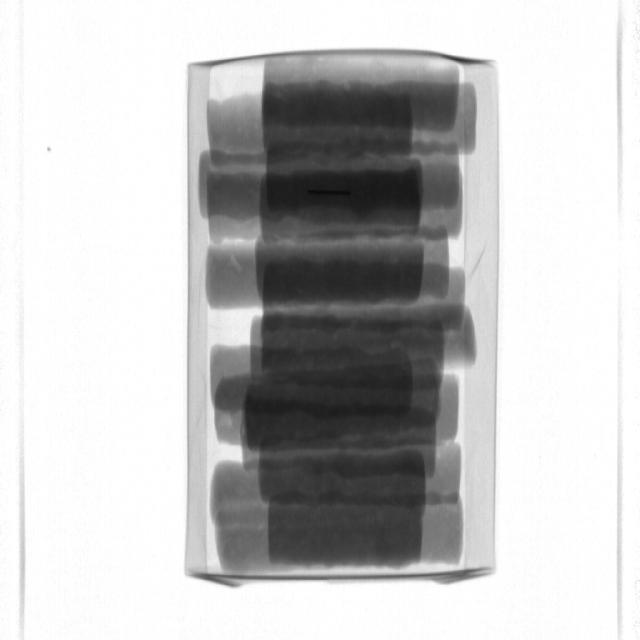ym: (308, 189, 352, 200)
